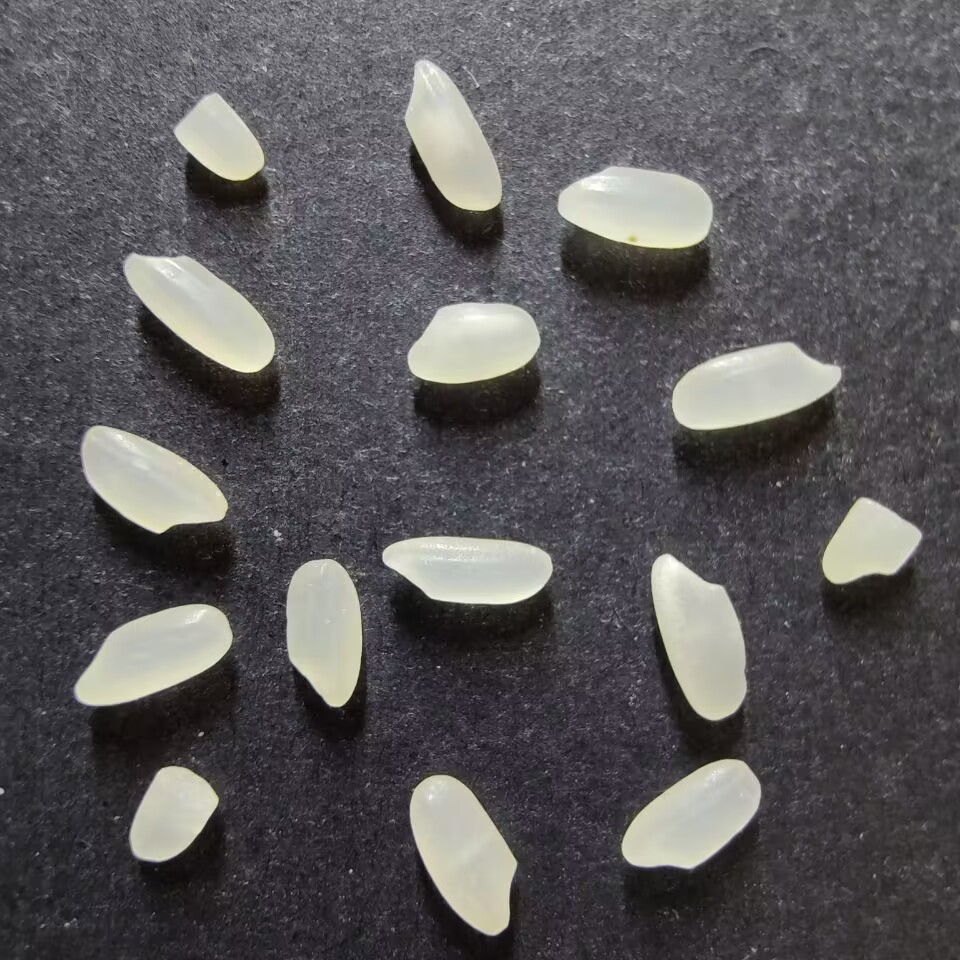broken: (128, 765, 219, 862), (821, 496, 921, 584), (173, 93, 265, 181)
rice: (122, 252, 275, 374), (408, 774, 518, 937), (73, 603, 232, 707), (649, 553, 747, 720), (80, 424, 227, 534), (620, 758, 761, 871), (671, 341, 842, 430), (403, 59, 503, 211), (556, 166, 713, 248), (284, 558, 363, 708), (381, 536, 552, 605), (407, 302, 541, 384)
